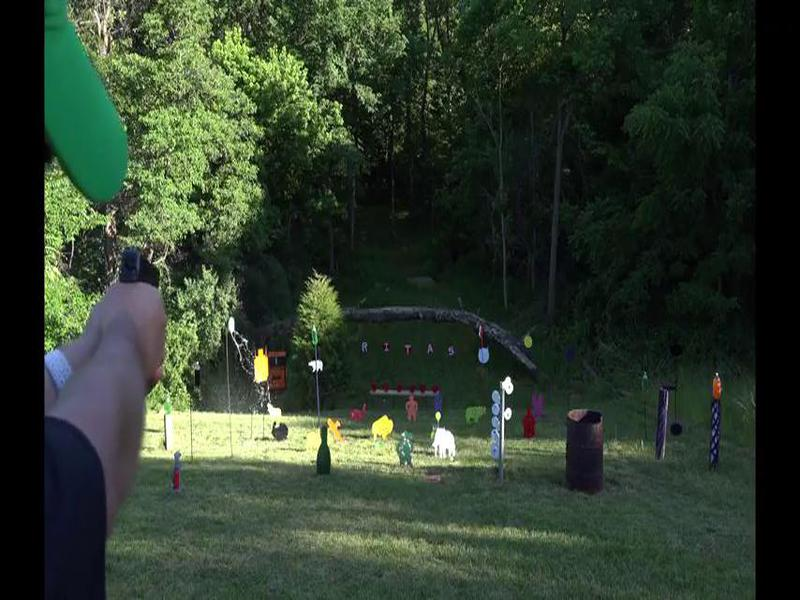Pistola: (106, 225, 172, 315)
